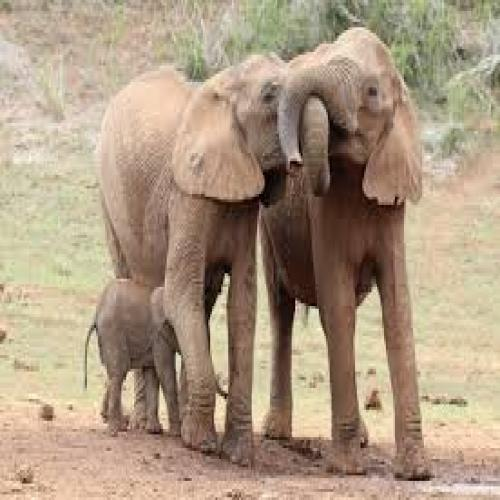asian_elephant-endangered: (97, 54, 330, 473), (257, 24, 430, 474), (84, 275, 180, 431)
